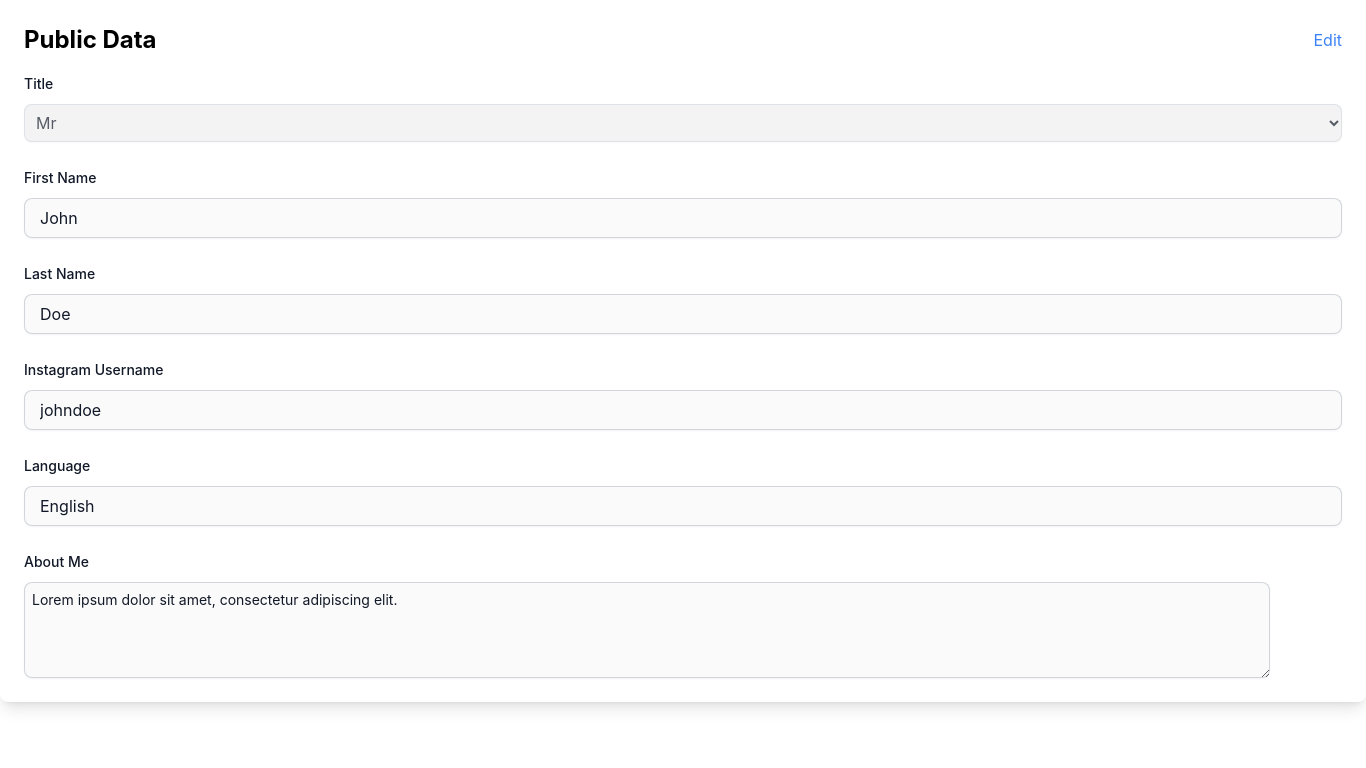
Scenario: PublicDataCard Component › disables editing when clicking Stop Editing button
// Klick auf den "Edit" Button, um den Editiermodus zu aktivieren
Click the button "Edit".
click(1328, 40)  # box [1314,28,1342,52]
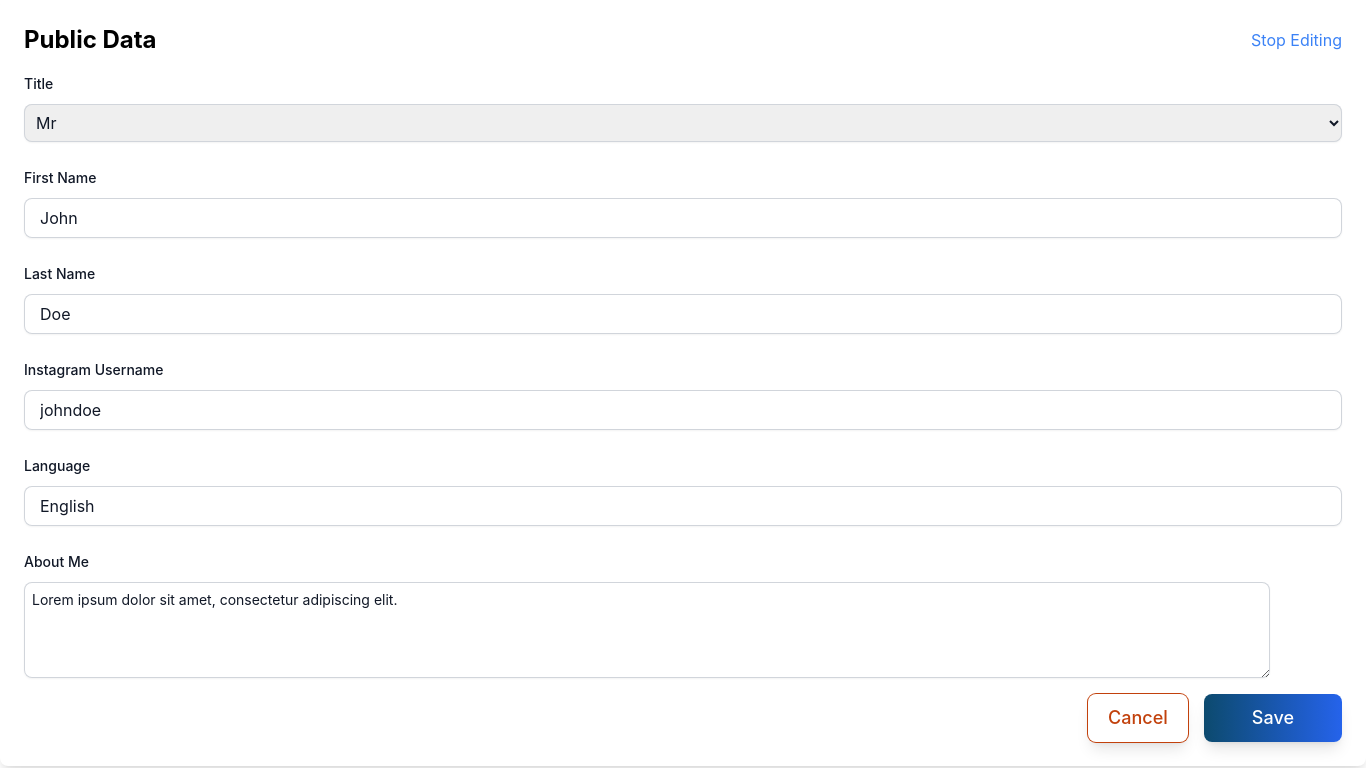
// Klick auf den "Stop Editing" Button
Click the button "Stop Editing".
click(1297, 40)  # box [1251,28,1342,52]
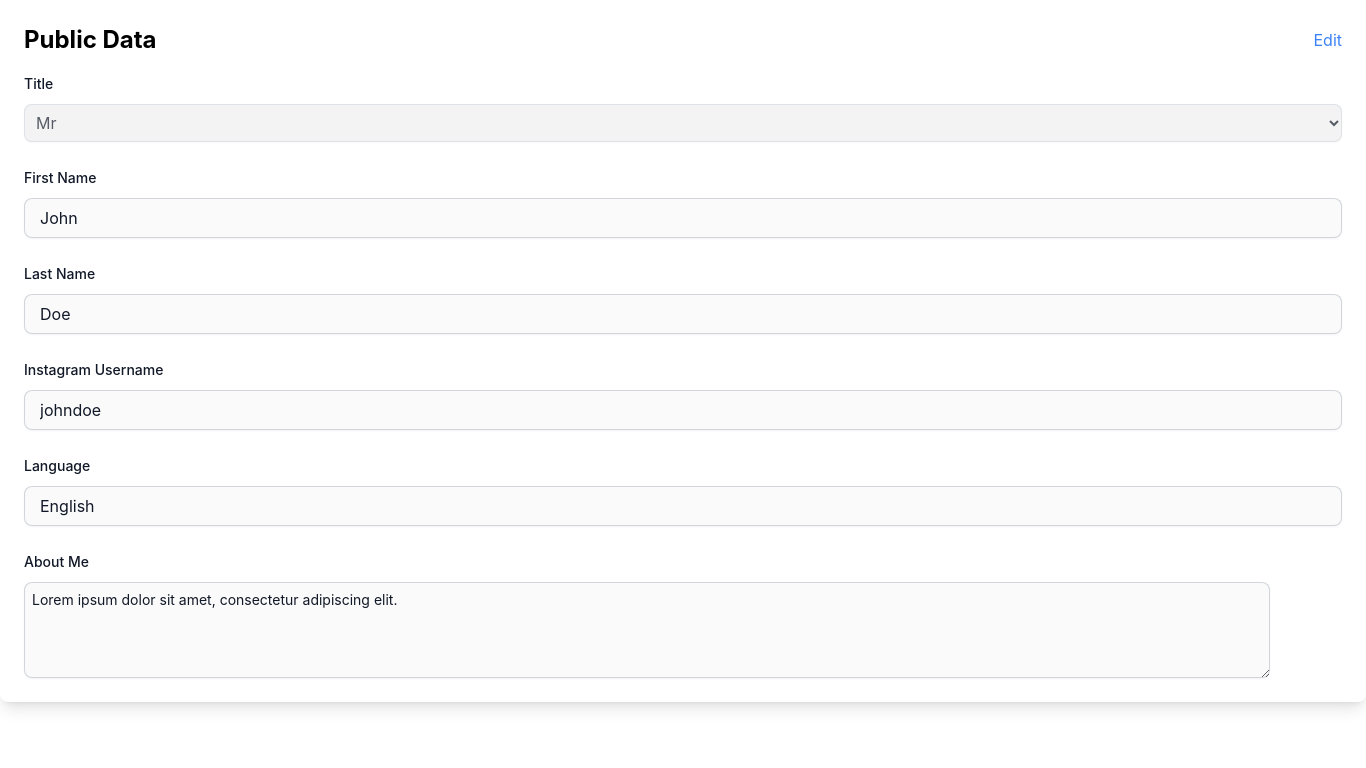
Expected: the field labelled "First Name" is disabled, [24,198,1342,238]
Result: the dropdown labelled "Title" is disabled at [24,104,1342,142]
